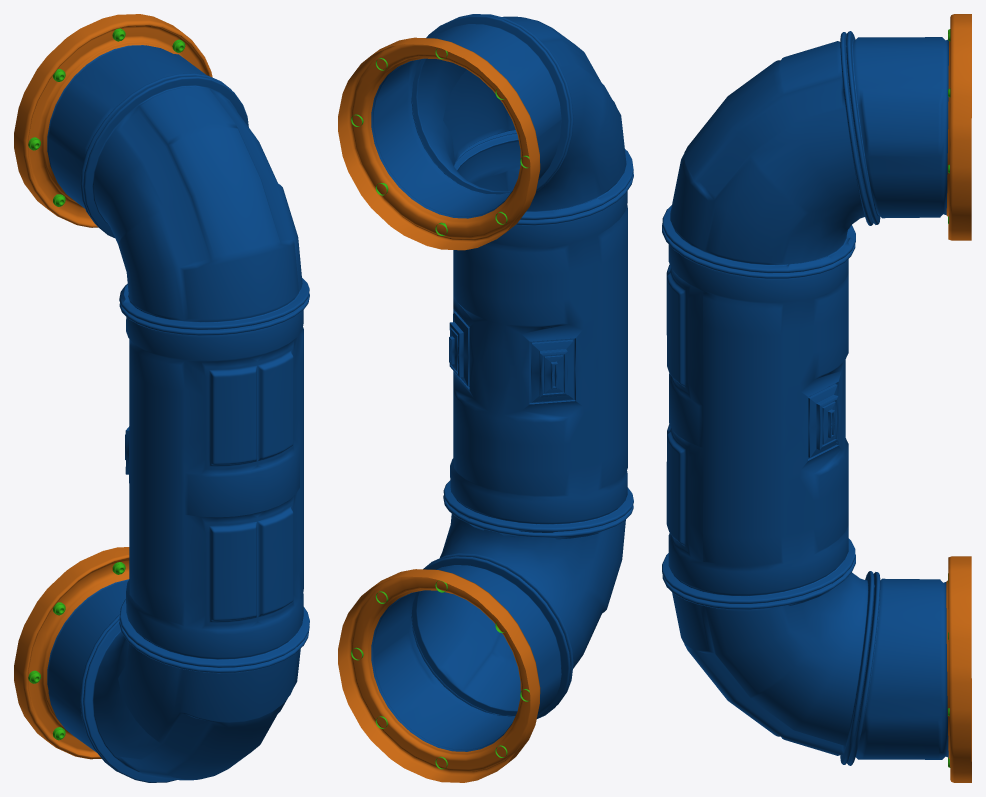
The model's file is Large_pipe.fbx.
The picture shows the model from 3 angles, left to right: view 1: azimuth 30°, elevation 25°; view 2: azimuth 150°, elevation 25°; view 3: azimuth 270°, elevation 25°; orthographic projection.
Parts seen in each view (by area): view 1: Large_pipe; view 2: Large_pipe; view 3: Large_pipe.
Boxes of the visible parts, x1,y1,x2,y2 form: Large_pipe: (14, 14, 309, 782); Large_pipe: (338, 14, 633, 782); Large_pipe: (662, 14, 971, 782).
Size of the model in its own units: 208 by 757 by 285.
